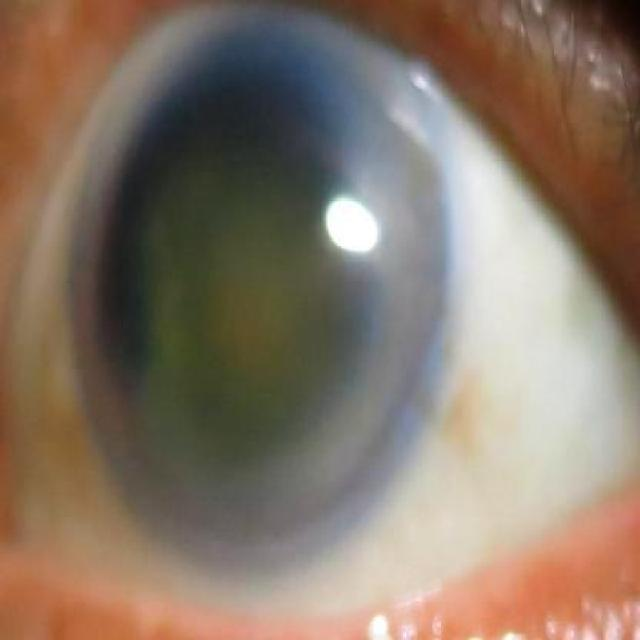Cataract: (63, 6, 444, 562)
